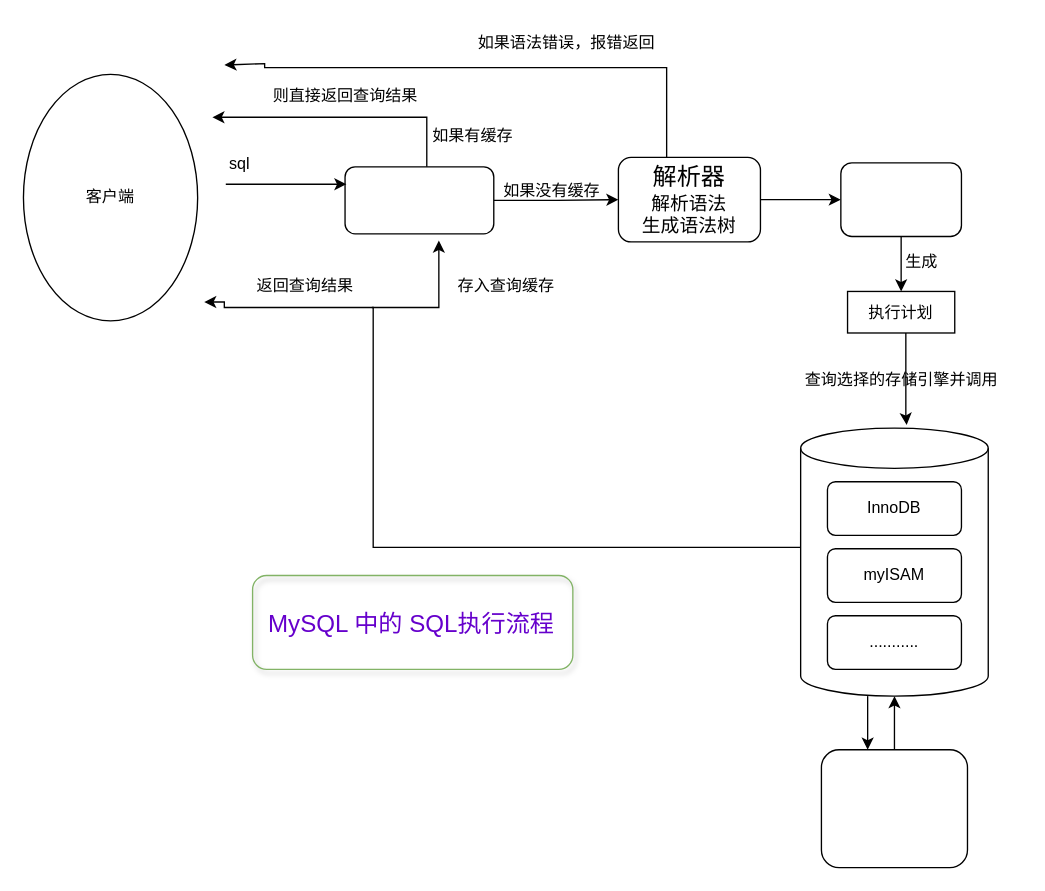
Some shapes in this 1045 by 891 pixel diagram are drawn without their labels. Here are the shapes that lost their labels. From the top down, the centre of each, then its label:
At (419,199): "查询缓存 （mysql8.0没有）".
At (900,199): "优化器 查询优化".
At (893,808): "文件系统 （存放数据）".
